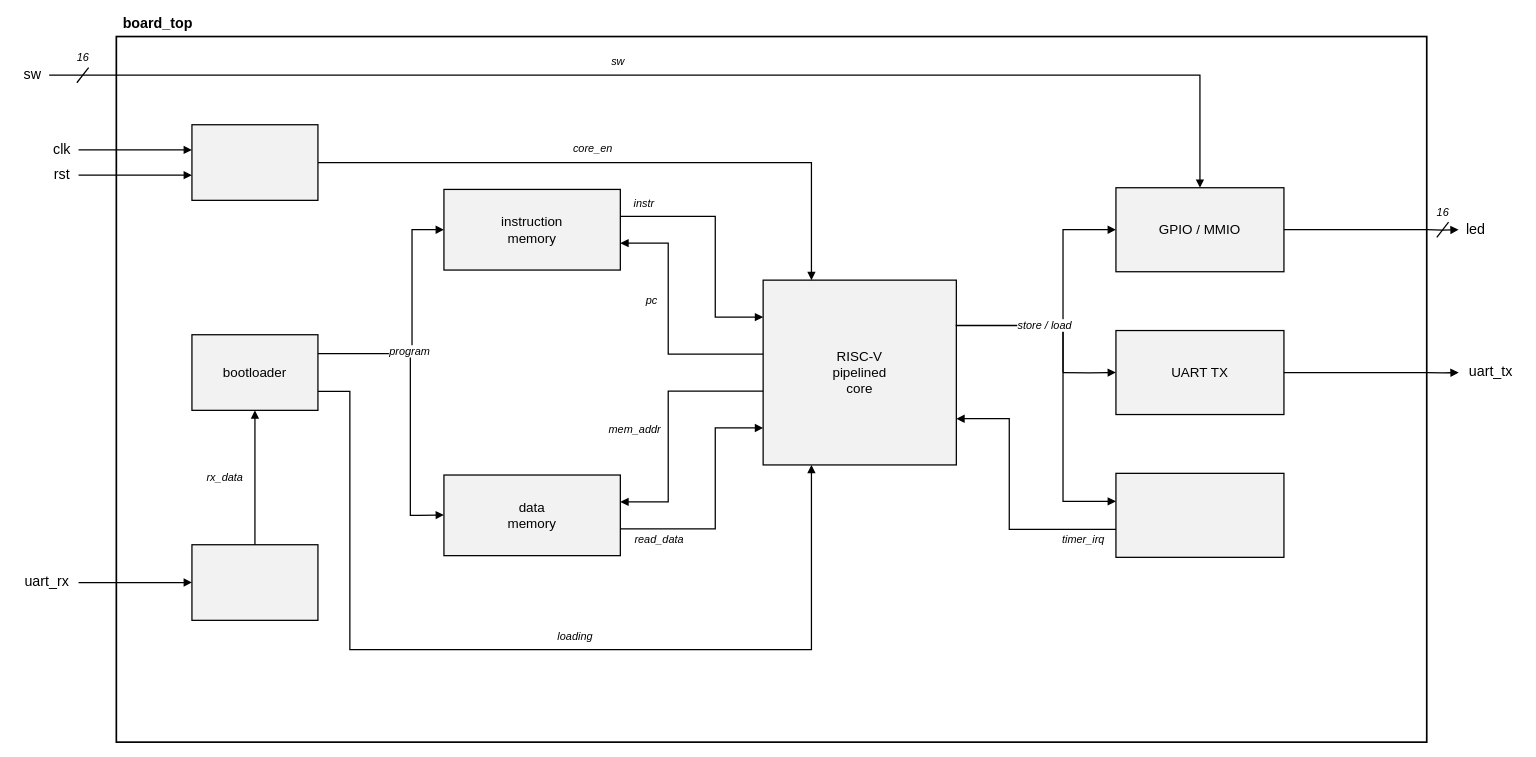
Image size: 1536x757. Some labels were removed from this diagram. The centre of each missing label's shape, as x and y in pixels:
"CLINT timer" belongs at point 1199,515.
"clock enable" belongs at point 254,162.
"UART RX" belongs at point 254,582.
